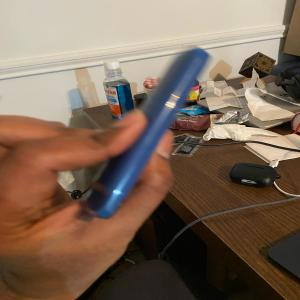Diamond-E-Ciggirate: (84, 46, 215, 228)
